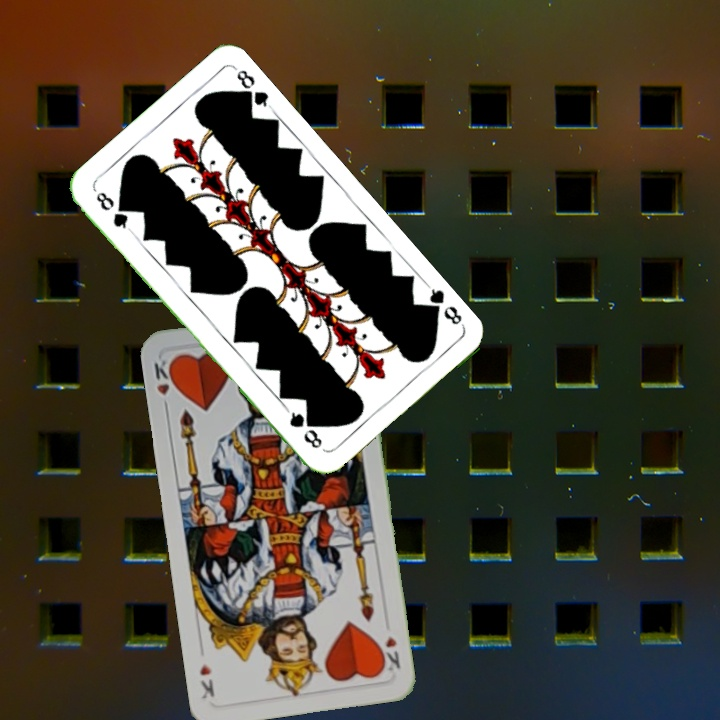G8: (421, 281, 467, 329), (91, 187, 134, 235)
HK: (149, 354, 179, 414), (375, 632, 403, 674)
